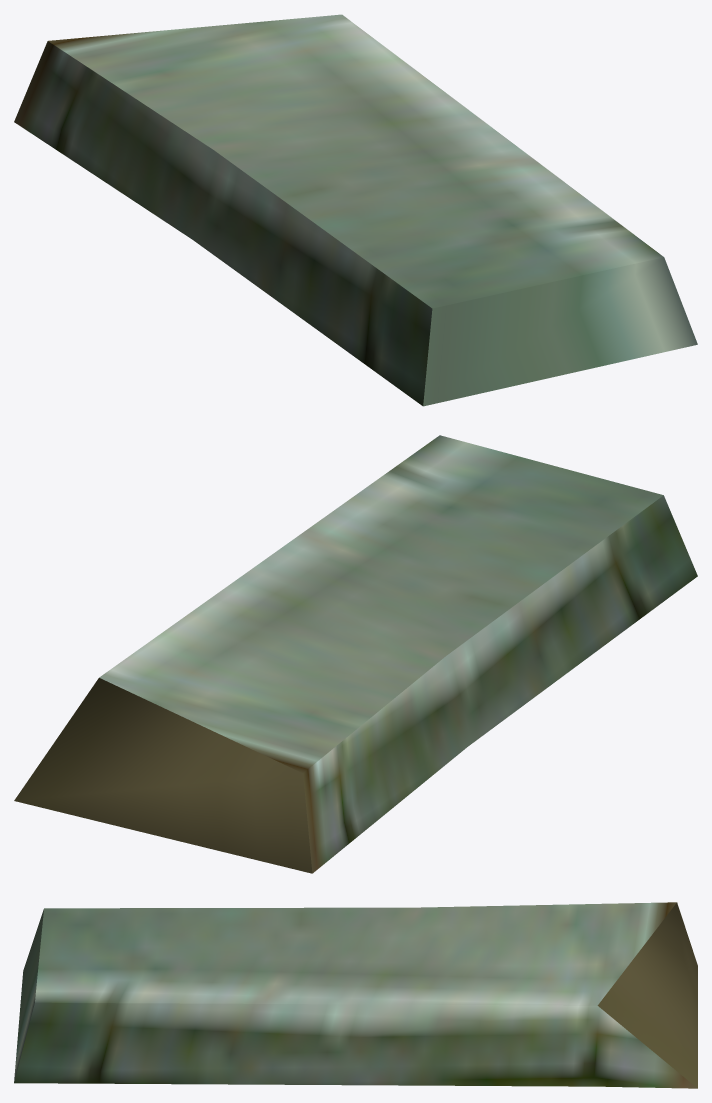
Rendered from zhuan03.FBX.
The picture shows the model from 3 angles, top to bottom: view 1: azimuth 30°, elevation 25°; view 2: azimuth 150°, elevation 25°; view 3: azimuth 270°, elevation 25°; orthographic projection. The views are drawn at different scales.
Parts seen in each view (by area): view 1: Object156; view 2: Object156; view 3: Object156.
Boxes of the visible parts, box(x1,y1,x2,y2) form: Object156: box(14, 14, 697, 406); Object156: box(14, 435, 697, 873); Object156: box(14, 902, 697, 1088).
Bounding box in the file's own units: 38.91 × 10.72 × 91.59.
